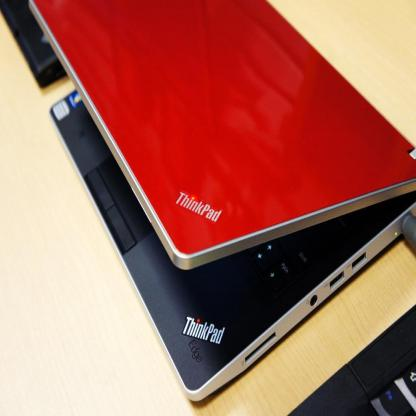board: (28, 0, 416, 402)
